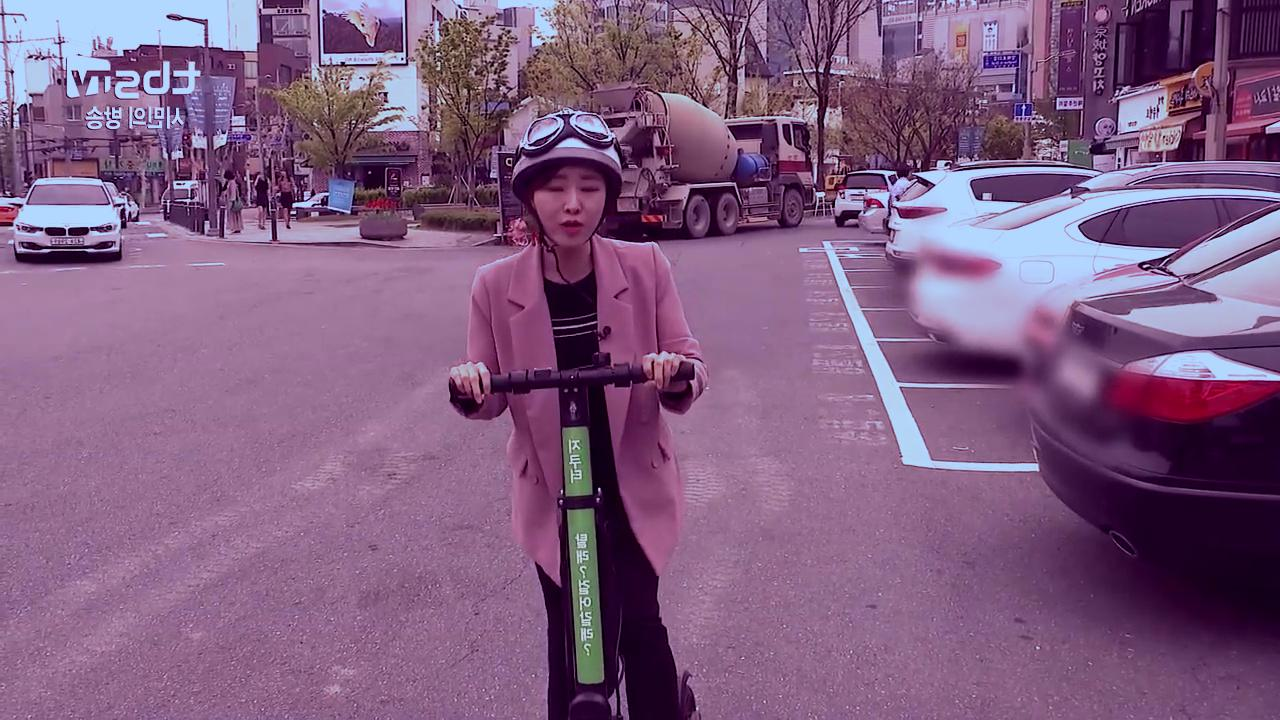helmet: (444, 106, 713, 720)
